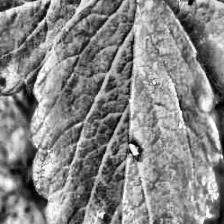Leaf Spot: (29, 0, 223, 224), (0, 0, 124, 99), (147, 0, 224, 120), (213, 152, 224, 200)
